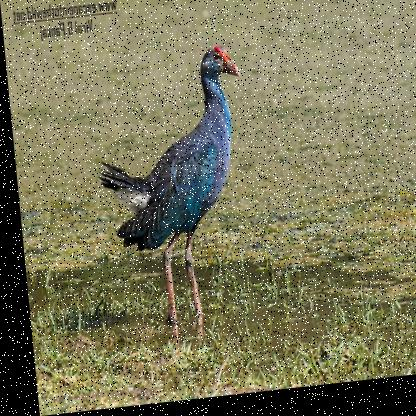Burung: (90, 47, 259, 338)
